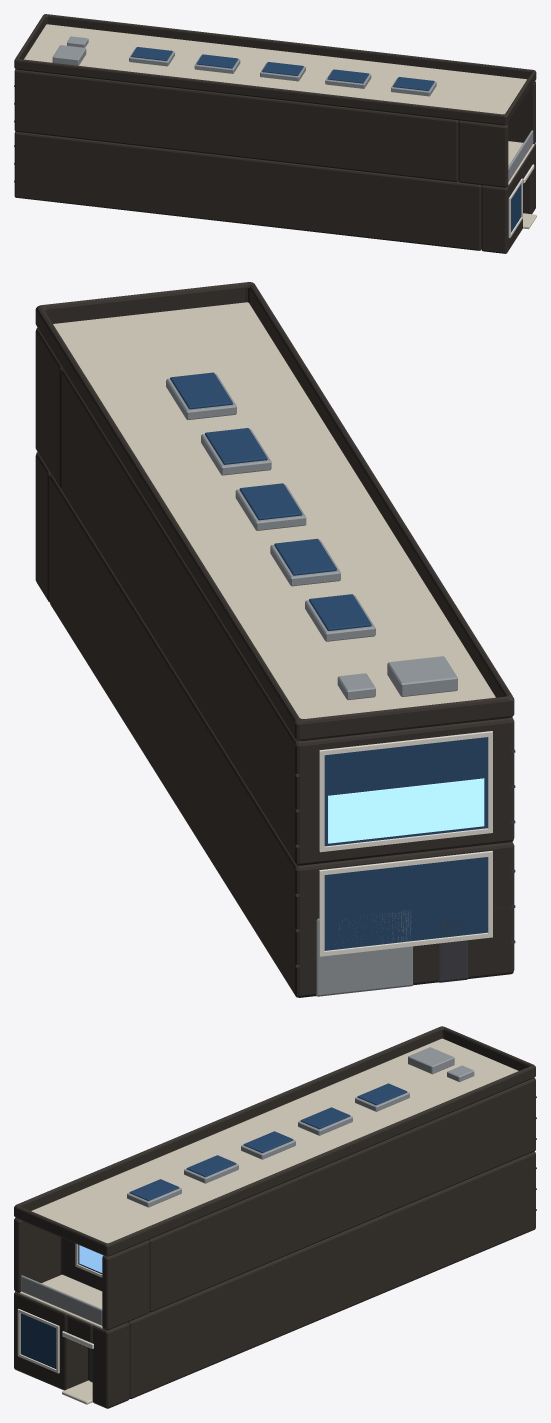
The model's file is 26-south-park.glb.
The picture shows the model from 3 angles, top to bottom: view 1: azimuth 30°, elevation 25°; view 2: azimuth 150°, elevation 25°; view 3: azimuth 270°, elevation 25°; orthographic projection. The views are drawn at different scales.
Parts seen in each view (by area): view 1: grp_Toy_ink, grp_Toy_stone, grp_Toy_steel, grp_Toy_glass, grp_Toy_trim; view 2: grp_Toy_ink, grp_Toy_stone, grp_Toy_glass, grp_Toy_steel, grp_Toy_glassl_Glow, grp_Toy_trim, grp_Toy_roofd; view 3: grp_Toy_ink, grp_Toy_stone, grp_Toy_steel, grp_Toy_glass, grp_Toy_trim, grp_Toy_glassl_Glow.
Boxes of the visible parts, <box> form: grp_Toy_ink: <box>14,14,536,253</box>; grp_Toy_stone: <box>24,24,536,229</box>; grp_Toy_steel: <box>52,36,533,181</box>; grp_Toy_glass: <box>131,47,521,232</box>; grp_Toy_trim: <box>508,164,534,237</box>; grp_Toy_ink: <box>35,282,514,997</box>; grp_Toy_stone: <box>53,302,495,718</box>; grp_Toy_glass: <box>170,372,487,950</box>; grp_Toy_steel: <box>166,373,457,996</box>; grp_Toy_glassl_Glow: <box>328,778,484,843</box>; grp_Toy_trim: <box>319,731,492,956</box>; grp_Toy_roofd: <box>295,749,515,982</box>; grp_Toy_ink: <box>14,1026,535,1408</box>; grp_Toy_stone: <box>19,1038,518,1404</box>; grp_Toy_steel: <box>21,1047,474,1325</box>; grp_Toy_glass: <box>20,1083,407,1368</box>; grp_Toy_trim: <box>17,1243,102,1373</box>; grp_Toy_glassl_Glow: <box>79,1245,103,1272</box>.
Size of the model in its own units: 25.94 by 9.05 by 26.04.
